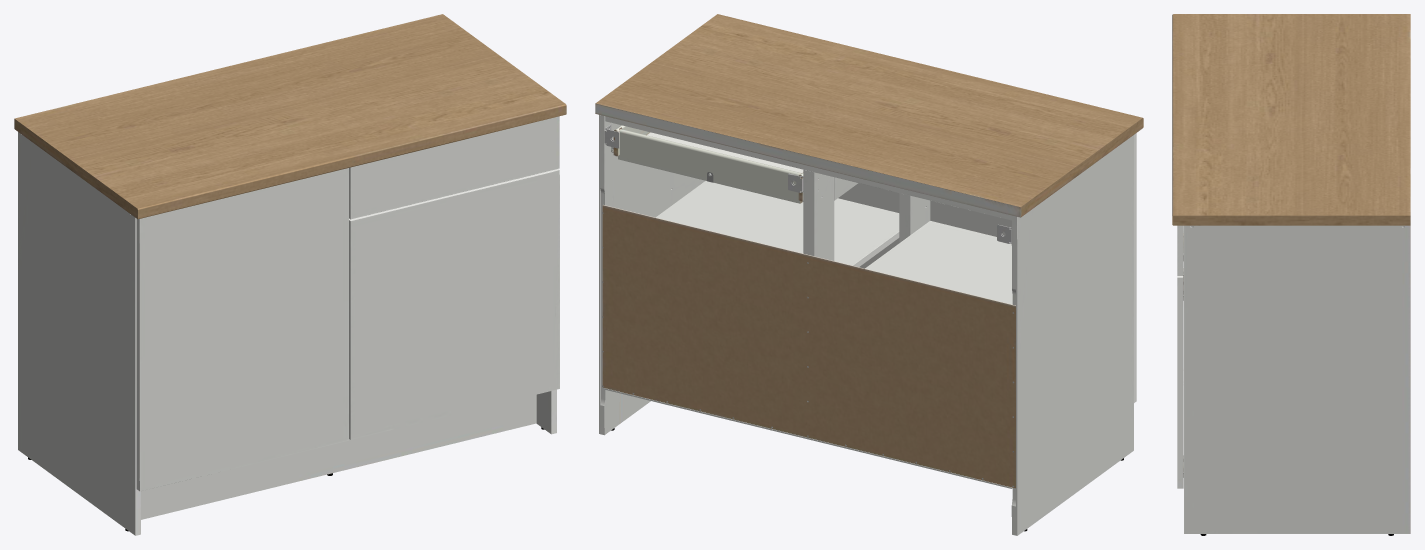
Rendered from knoxhult_szafka_stojaca_drzwi_szuflada_30326790.glb.
The picture shows the model from 3 angles, left to right: view 1: azimuth 30°, elevation 25°; view 2: azimuth 150°, elevation 25°; view 3: azimuth 270°, elevation 25°; orthographic projection. The views are drawn at different scales.
Visible parts, largest first — view 1: knoxhult_szafka_stojaca_drzwi_szuflada_30326790; view 2: knoxhult_szafka_stojaca_drzwi_szuflada_30326790; view 3: knoxhult_szafka_stojaca_drzwi_szuflada_30326790.
Boxes of the visible parts, x1,y1,x2,y2 form: knoxhult_szafka_stojaca_drzwi_szuflada_30326790: (14,14,566,535); knoxhult_szafka_stojaca_drzwi_szuflada_30326790: (595,14,1143,535); knoxhult_szafka_stojaca_drzwi_szuflada_30326790: (1172,14,1410,535).
Bounding box in the file's own units: 1.22 × 0.9094 × 0.6103.
Materials: 2 (2 with a texture image).
